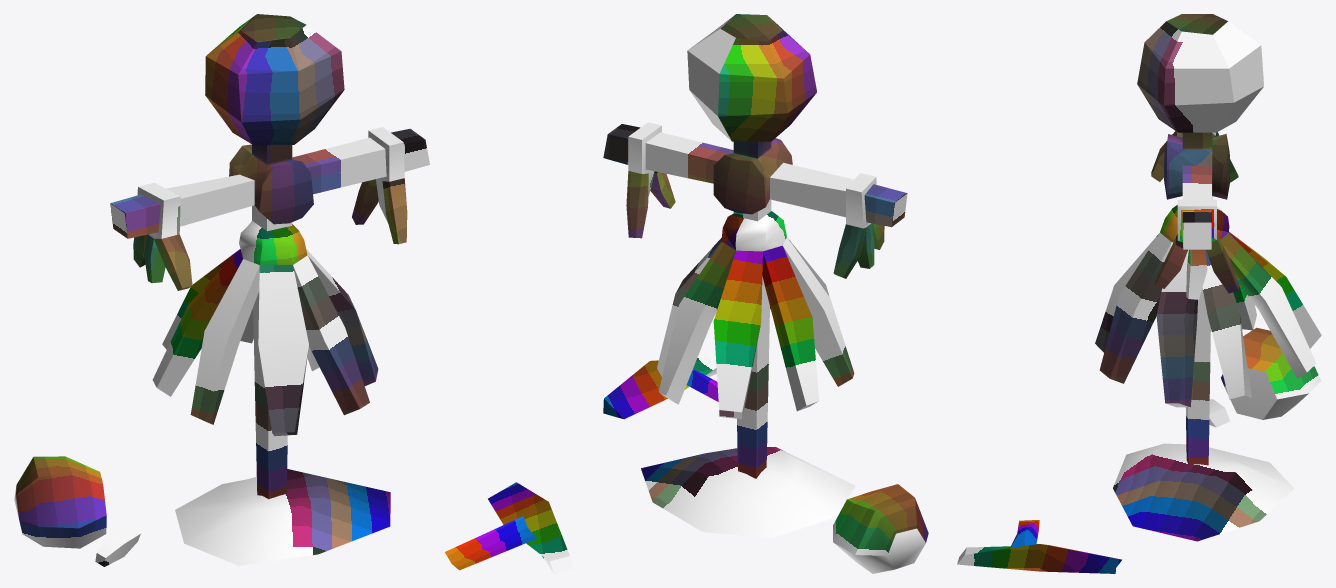
File: N_Scarecrow_WithStuff.fbx
The picture shows the model from 3 angles, left to right: view 1: azimuth 30°, elevation 25°; view 2: azimuth 150°, elevation 25°; view 3: azimuth 270°, elevation 25°; orthographic projection. The views are drawn at different scales.
Visible parts, largest first — view 1: N_Scarecrow; view 2: N_Scarecrow; view 3: N_Scarecrow.
Boxes of the visible parts, x1,y1,x2,y2 form: N_Scarecrow: (14,14,574,573); N_Scarecrow: (603,14,928,573); N_Scarecrow: (957,14,1321,573).
Size of the model in its own units: 122 by 140 by 97.88.
